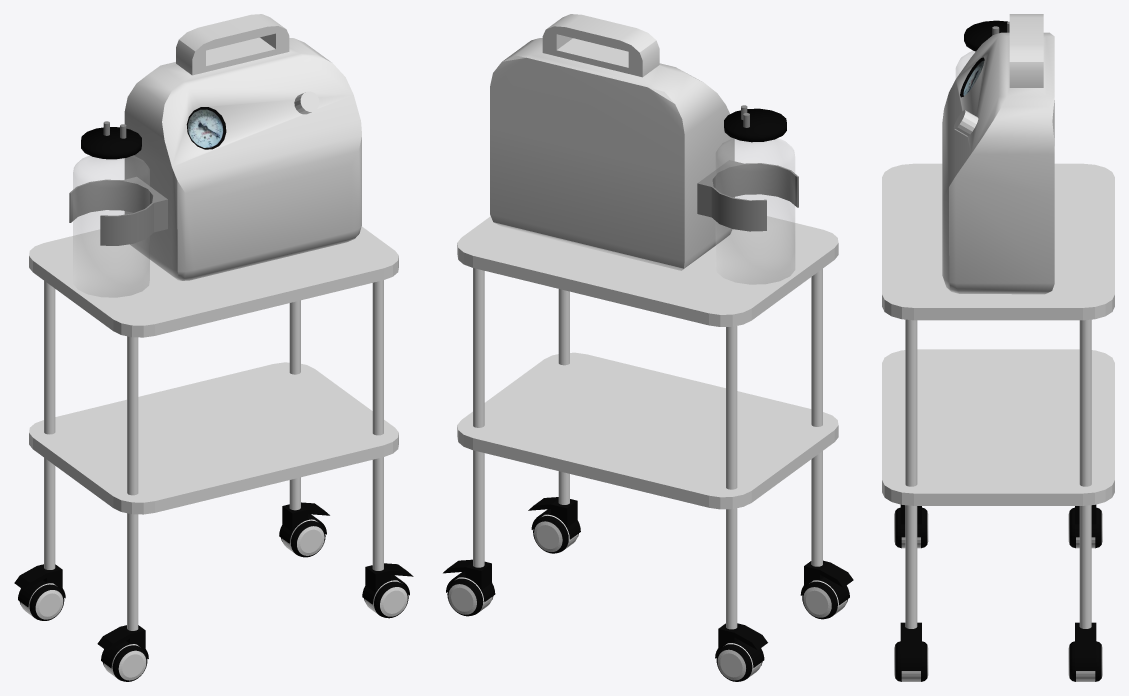
3 views of the same model, side by side, from view 1: azimuth 30°, elevation 25°; view 2: azimuth 150°, elevation 25°; view 3: azimuth 270°, elevation 25° (orthographic). The views are drawn at different scales.
Parts seen in each view (by area): view 1: EM-25; view 2: EM-25; view 3: EM-25.
Part boxes in pixels (x1,y1,x2,y2): EM-25: (14,14,413,681); EM-25: (443,14,853,681); EM-25: (882,14,1114,681).
Size of the model in its own units: 54.35 by 96.73 by 34.1.
9 materials, 1 textured.
